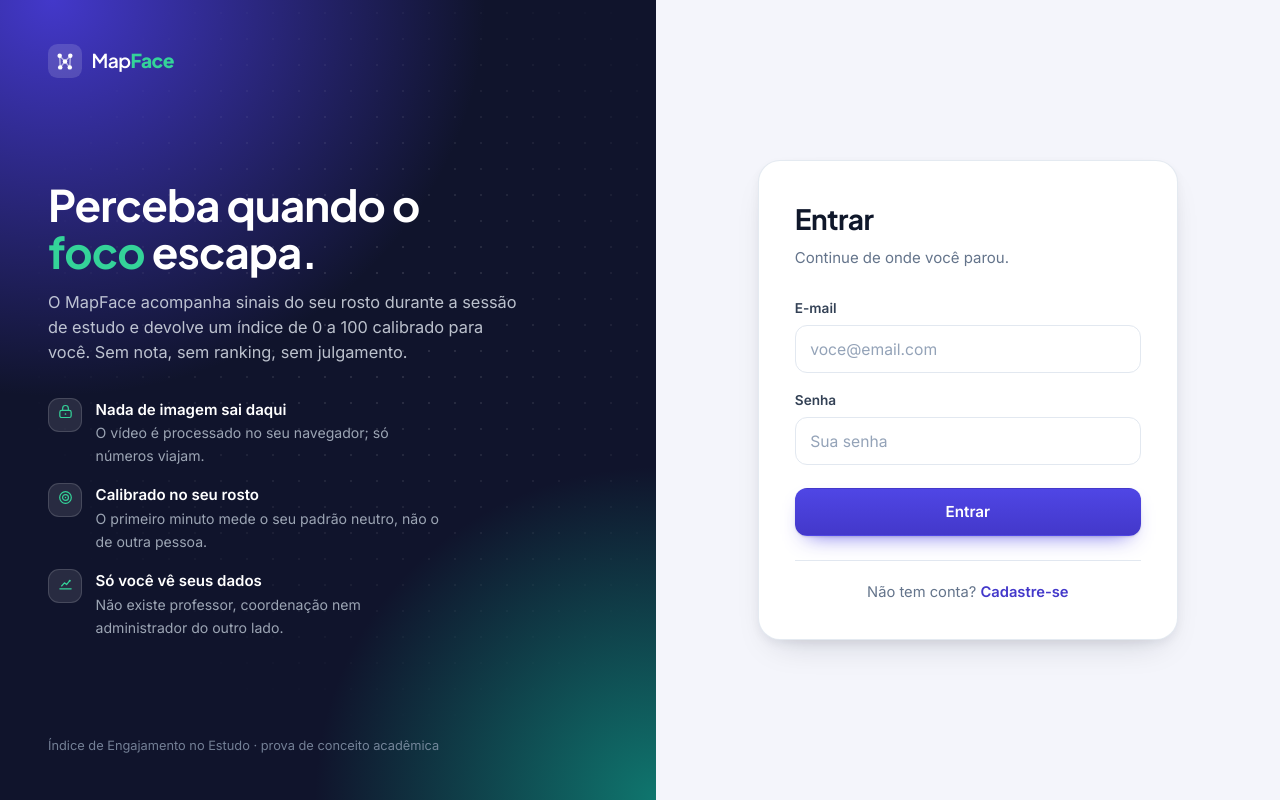
Scenario: LoginComponent › mostra mensagem de erro e não navega quando as credenciais são recusadas
Type "ana@exemplo.com" into the field labelled "E-mail" at (968, 349), box [795, 325, 1141, 373]
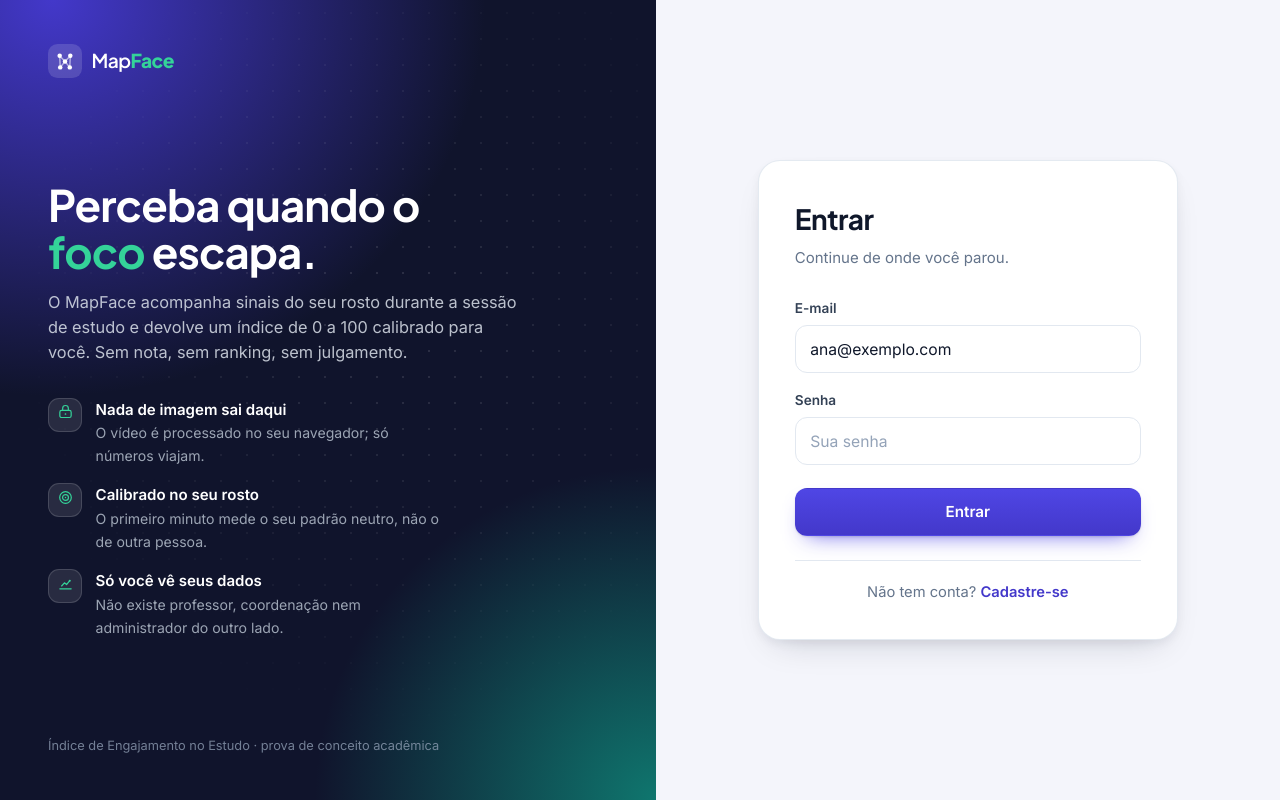
Type "senhaErrada" into the password field labelled "Senha" at (968, 441), box [795, 417, 1141, 465]
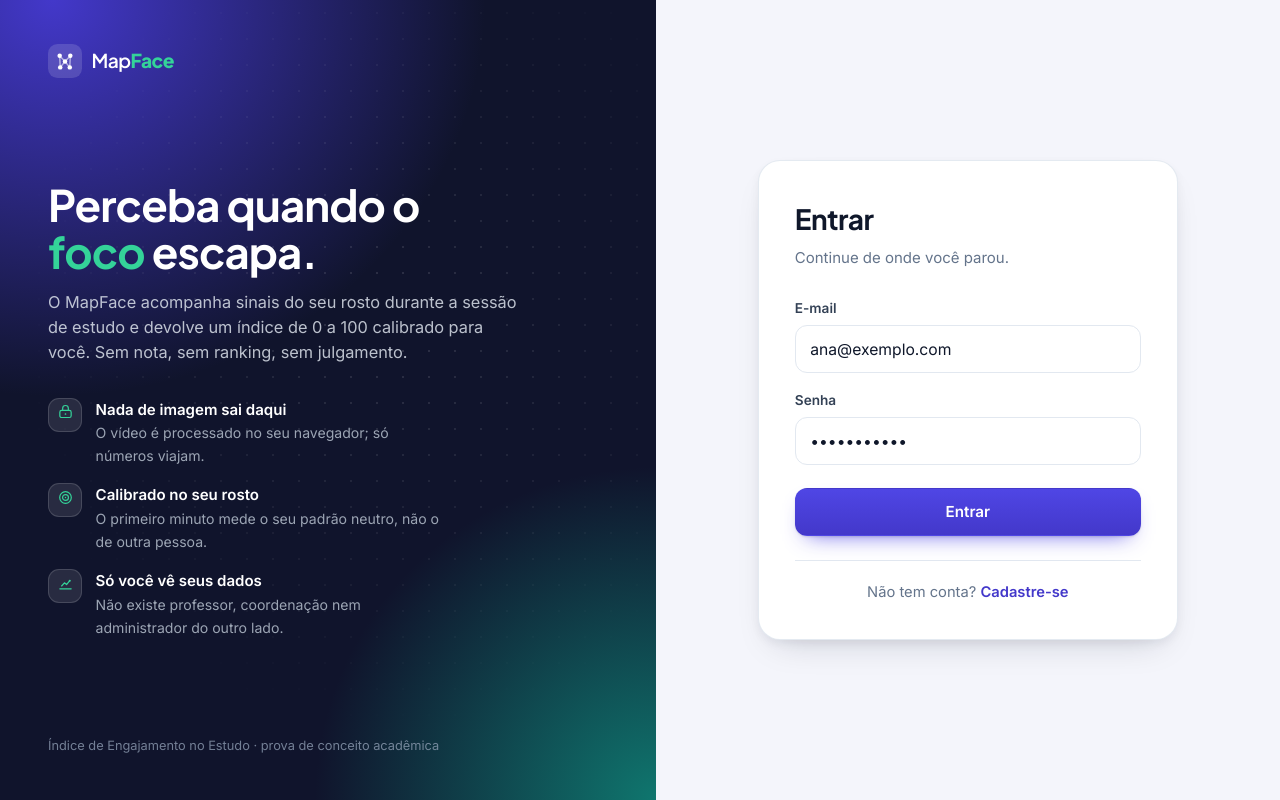
Submit the form, box [795, 298, 1141, 536]
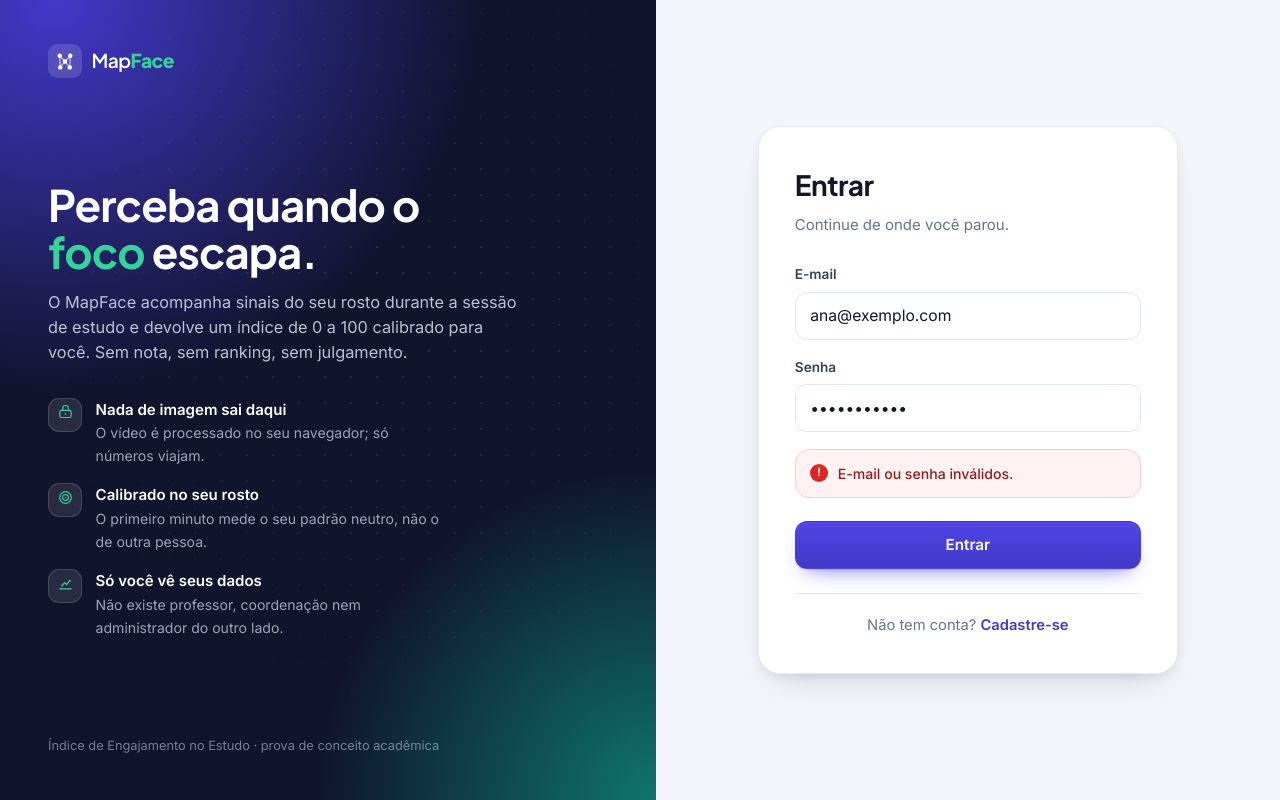
Check: the message with class "erro-geral" reads "E-mail ou senha inválidos.", box [838, 465, 1013, 482]
